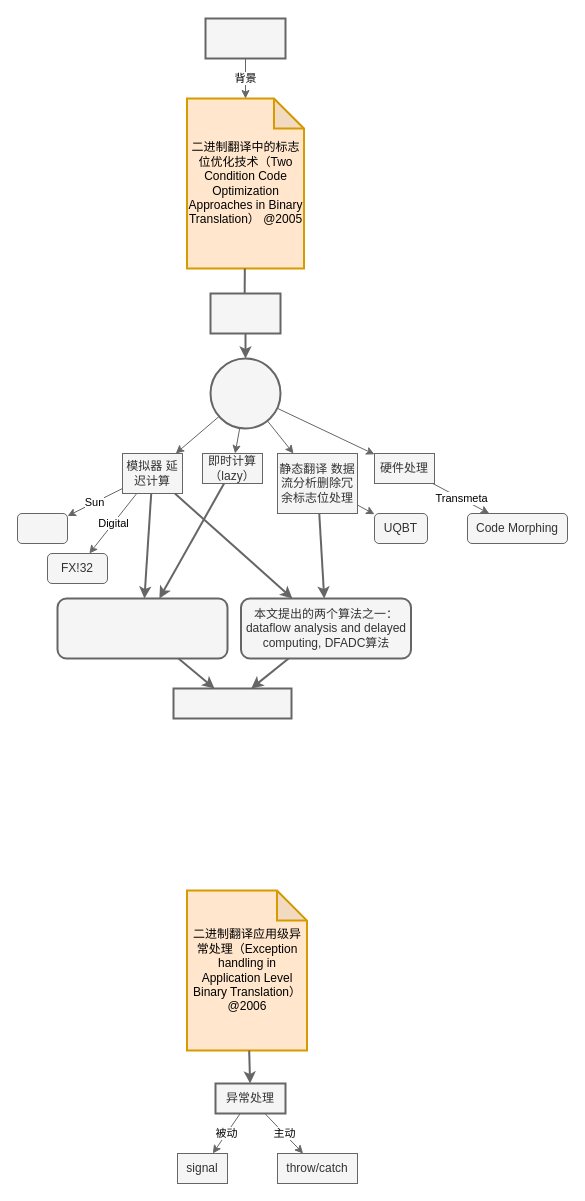
Some shapes in this 585 by 1201 pixel diagram are drawn without their labels. Each missing label, with the centre of its shape:
"Wabi" goes at [42,528].
"应用于Digital Bridge" goes at [232,703].
"当时国际上的相似工作" goes at [245,393].
"当时龙芯上没有标志寄存器" goes at [245,38].
"本文提出的两个算法之一：instant computing and delayed computing, ICDC算法" goes at [142,628].
"标志位寄 存器问题" goes at [245,313].
